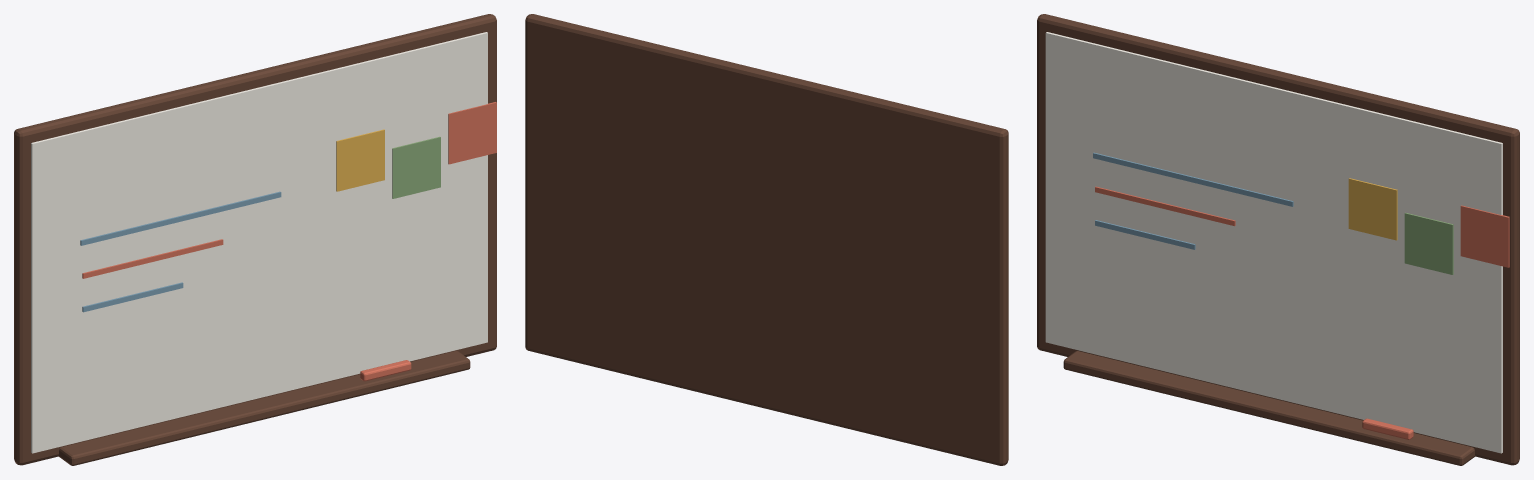
Rendered from whiteboard.glb.
3 views of the same model, side by side, from view 1: azimuth 30°, elevation 25°; view 2: azimuth 150°, elevation 25°; view 3: azimuth 330°, elevation 25° (orthographic).
Visible parts, largest first — view 1: whiteboard; view 2: whiteboard; view 3: whiteboard.
Boxes of the visible parts, left/top/right/bottom form: whiteboard: left=14, top=14, right=496, bottom=465; whiteboard: left=525, top=14, right=1008, bottom=465; whiteboard: left=1037, top=14, right=1519, bottom=465.
Size of the model in its own units: 1.2 by 0.8 by 0.085.
